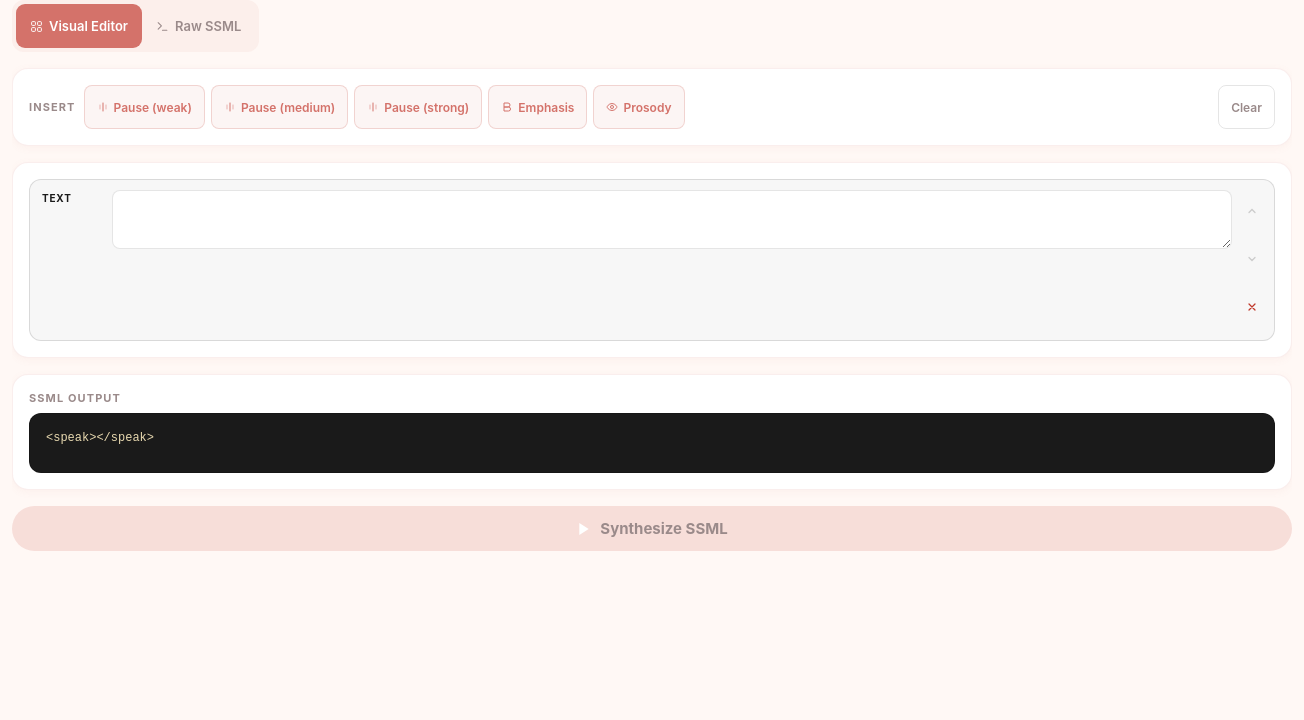
text node editing › enables synthesize button after text entry
Type "Some text." into the text box named "Text content" at (672, 219), box left=112, top=190, right=1232, bottom=249
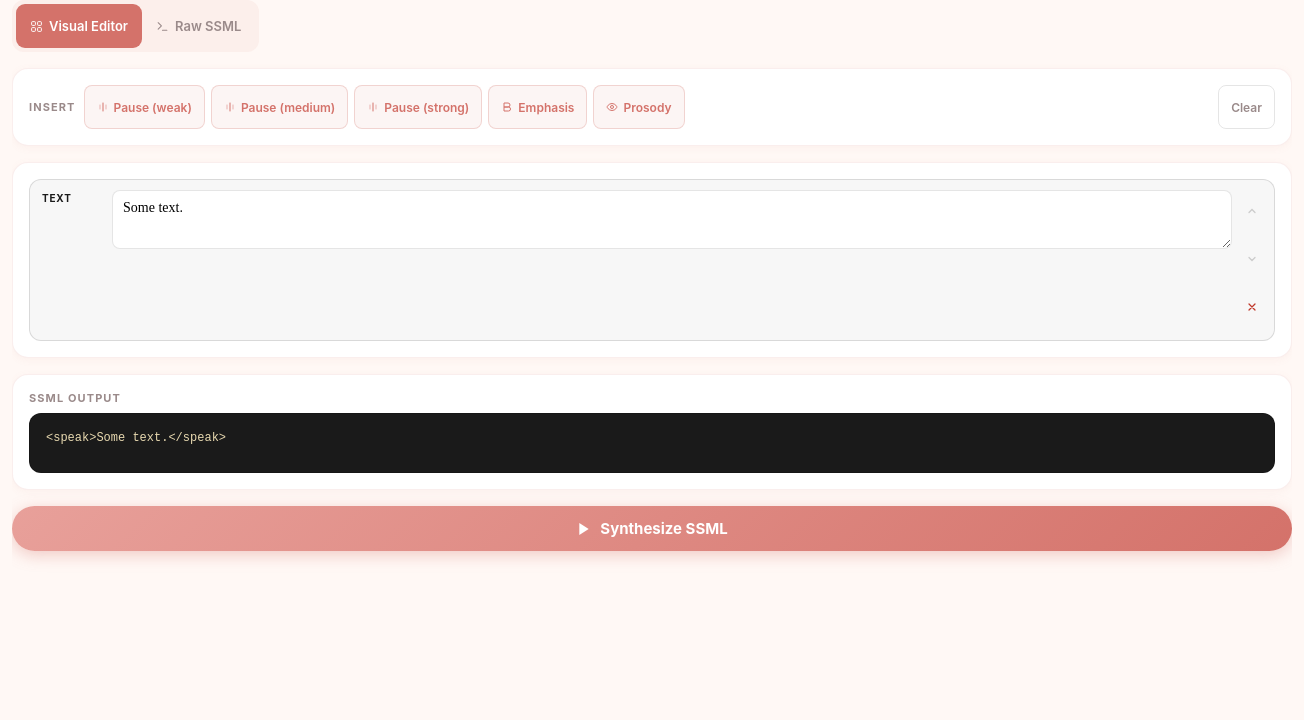
Now the button "Synthesize SSML" is enabled, box left=12, top=506, right=1292, bottom=551
